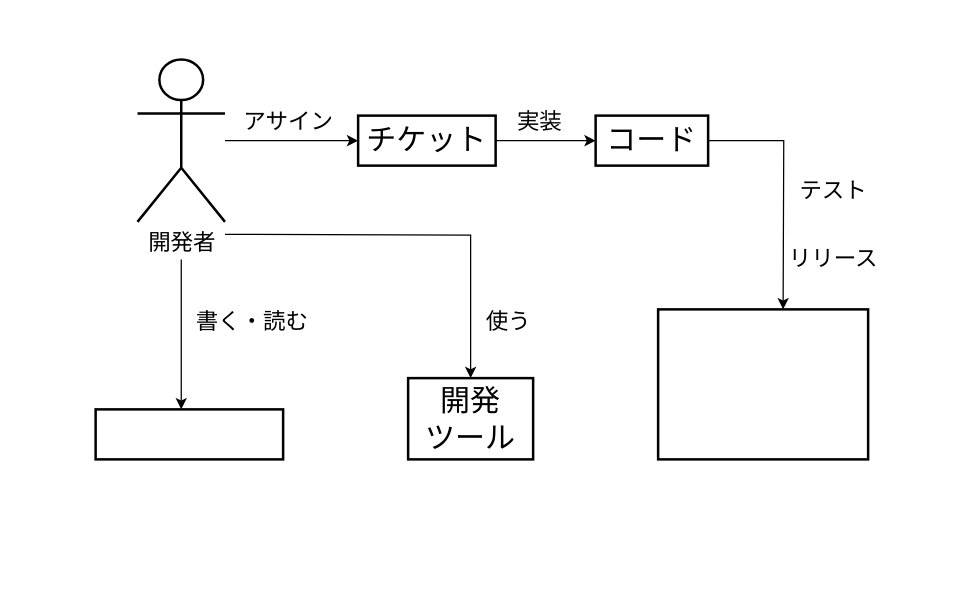
This 968x605 diagram has some shape labels left out. Each missing label, with the centre of its shape:
ドキュメント: point 189,434
プロダクト: point 762,384
